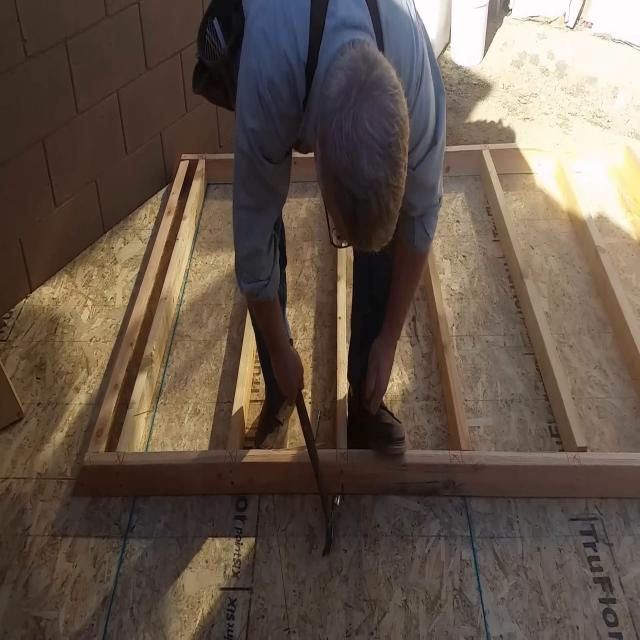hammer: (289, 338, 341, 560)
